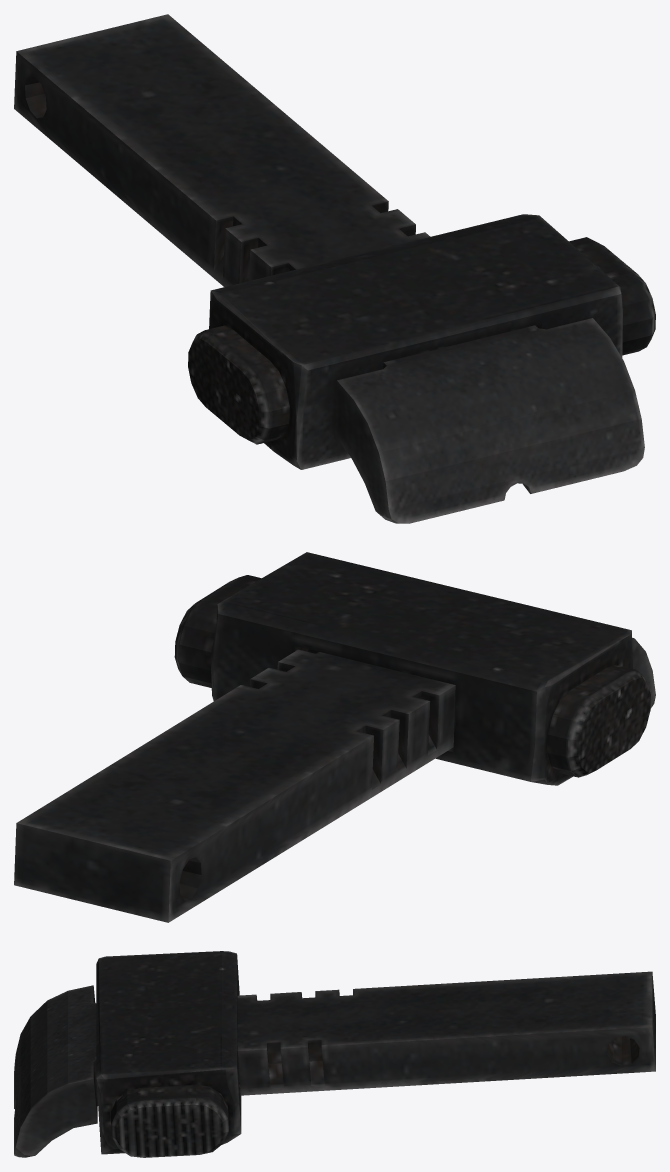
The picture shows the model from 3 angles, top to bottom: view 1: azimuth 30°, elevation 25°; view 2: azimuth 150°, elevation 25°; view 3: azimuth 270°, elevation 25°; orthographic projection. The views are drawn at different scales.
Visible parts, largest first — view 1: TW_5bfd4c980db834001b73449d_PZ_Import; view 2: TW_5bfd4c980db834001b73449d_PZ_Import; view 3: TW_5bfd4c980db834001b73449d_PZ_Import.
Part boxes in pixels (bbox=[...]): TW_5bfd4c980db834001b73449d_PZ_Import: bbox=[14, 14, 655, 523]; TW_5bfd4c980db834001b73449d_PZ_Import: bbox=[14, 552, 655, 922]; TW_5bfd4c980db834001b73449d_PZ_Import: bbox=[14, 951, 655, 1157].
Size of the model in its own units: 0.019 by 0.0355 by 0.00704.
1 material, 1 textured.
